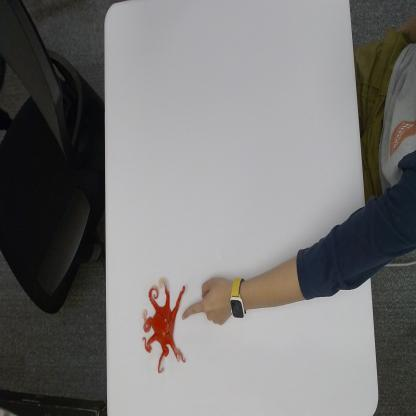Arm: (248, 197, 371, 314)
Hand: (181, 273, 230, 329)
Octopus: (141, 272, 187, 376)
